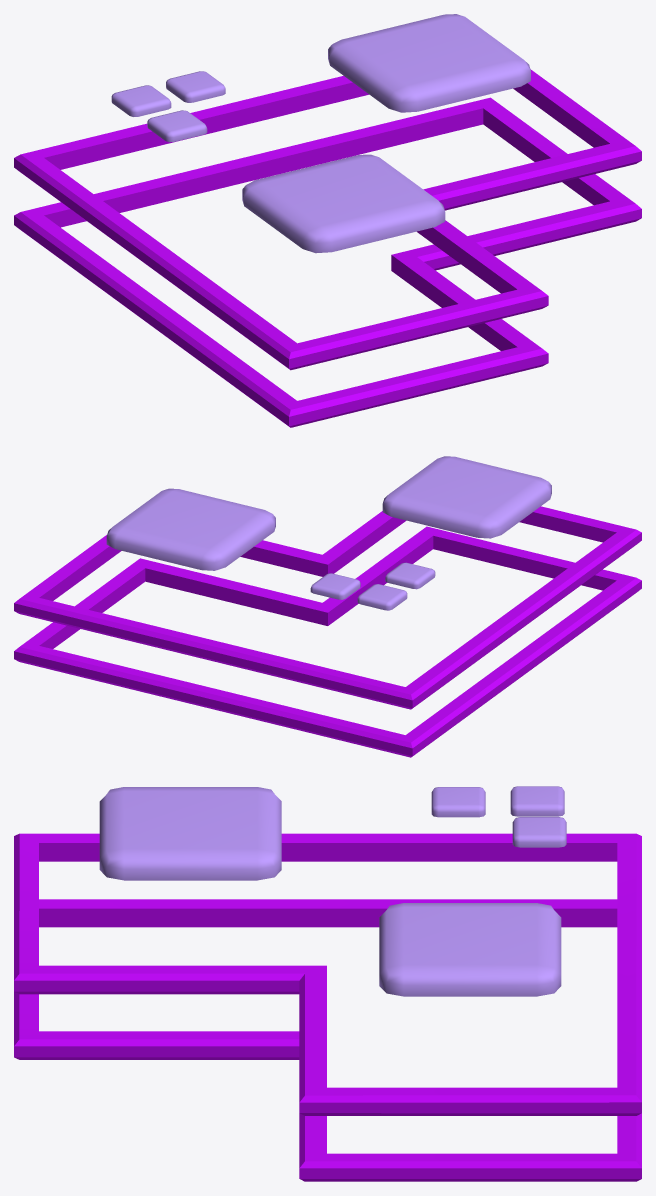
File: wall_deco5.fbx
3 renders of one model, top to bottom at view 1: azimuth 30°, elevation 25°; view 2: azimuth 150°, elevation 25°; view 3: azimuth 270°, elevation 25°, orthographic. The views are drawn at different scales.
Parts seen in each view (by area): view 1: wall_deco5; view 2: wall_deco5; view 3: wall_deco5.
Part boxes in pixels (x1=…): wall_deco5: x1=14, y1=14, x2=641, y2=427; wall_deco5: x1=14, y1=456, x2=641, y2=757; wall_deco5: x1=14, y1=786, x2=641, y2=1181.
Bounding box in the file's own units: 654 × 196 × 651.
